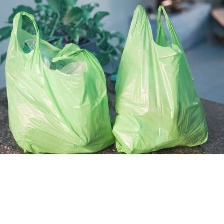plastic_bag: (2, 4, 116, 156), (111, 0, 217, 161)
